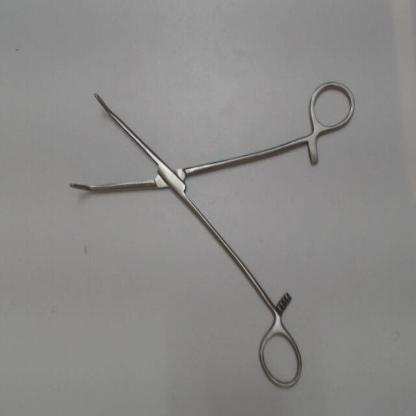Lahey Forceps: (61, 74, 360, 394)
